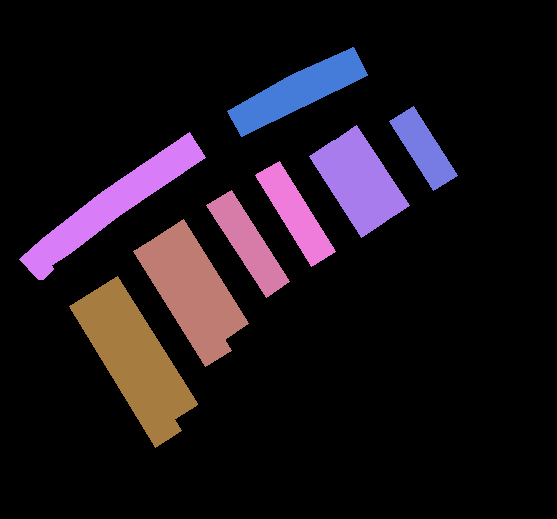parkingspot: (19, 132, 205, 279), (69, 291, 181, 447), (91, 276, 197, 420), (133, 235, 231, 366), (227, 47, 367, 136), (157, 219, 248, 340), (206, 190, 289, 297), (255, 161, 335, 266), (333, 125, 409, 222), (309, 140, 385, 237), (389, 106, 457, 190)
